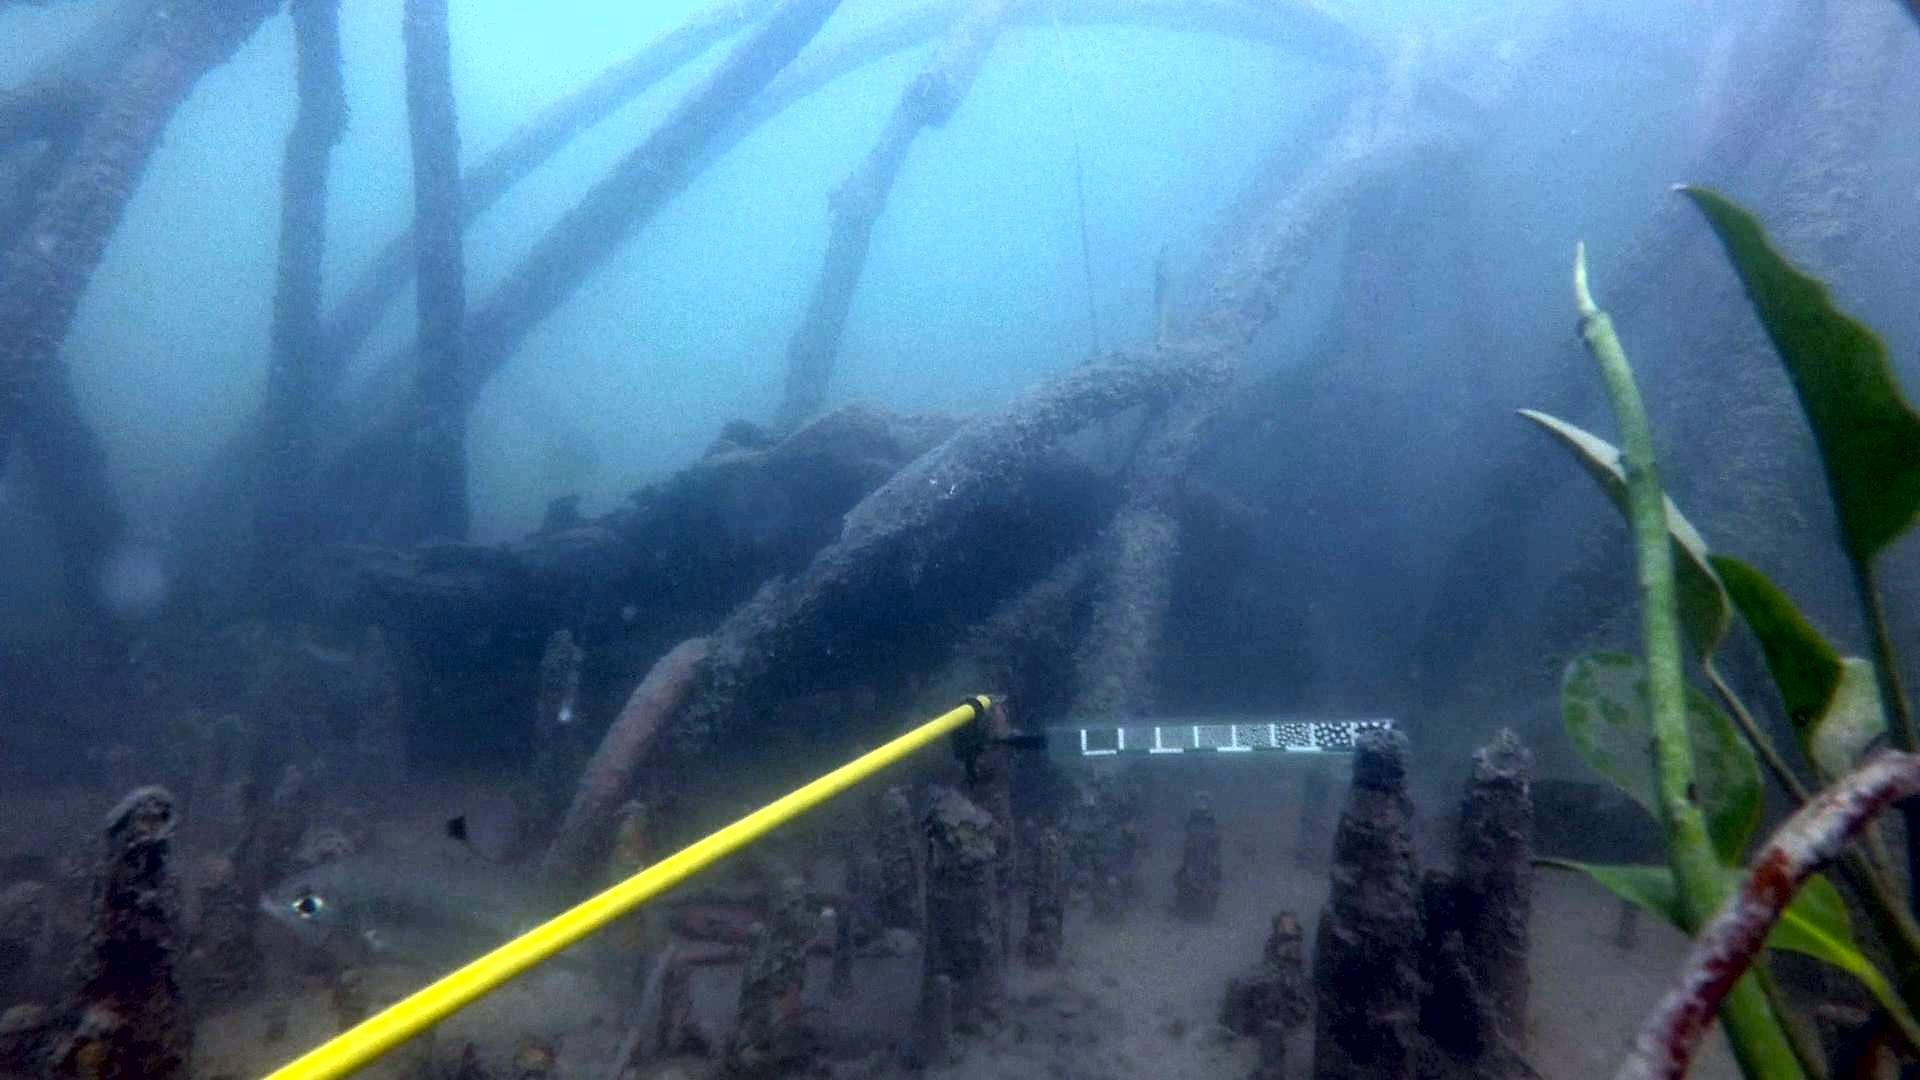gerres: (256, 810, 700, 1044)
